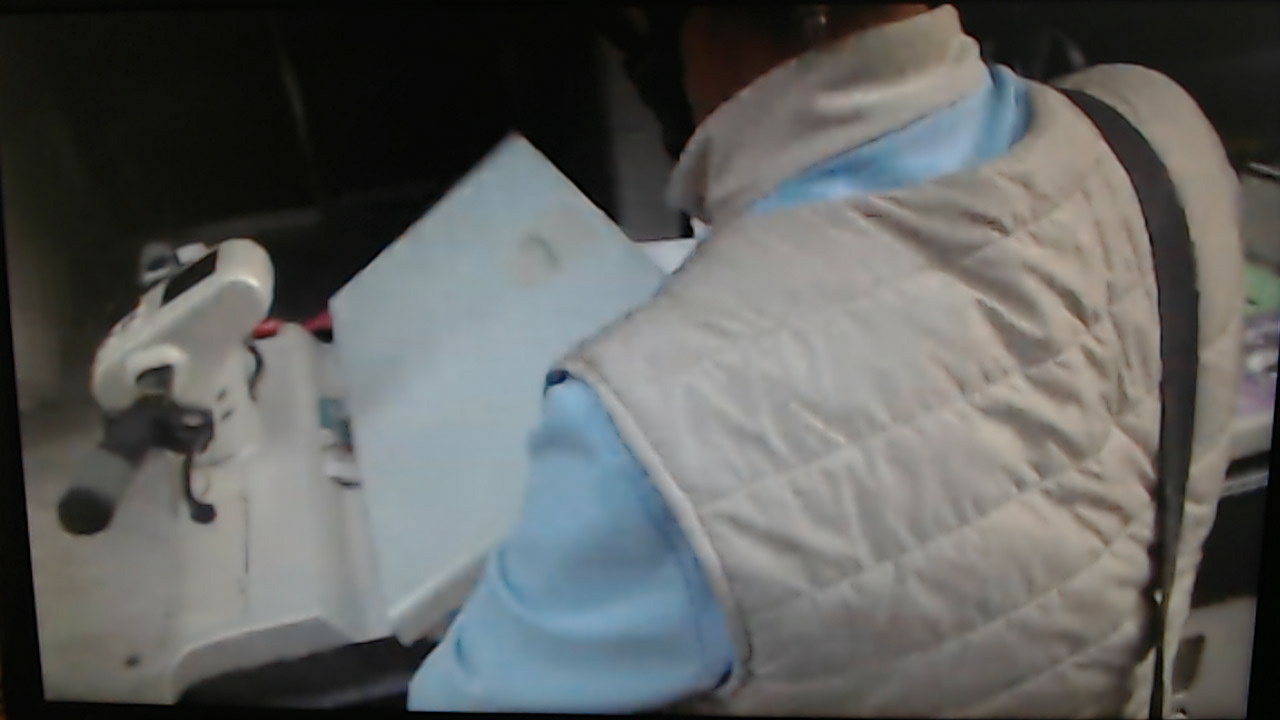Yakurut: (383, 12, 1262, 716)
